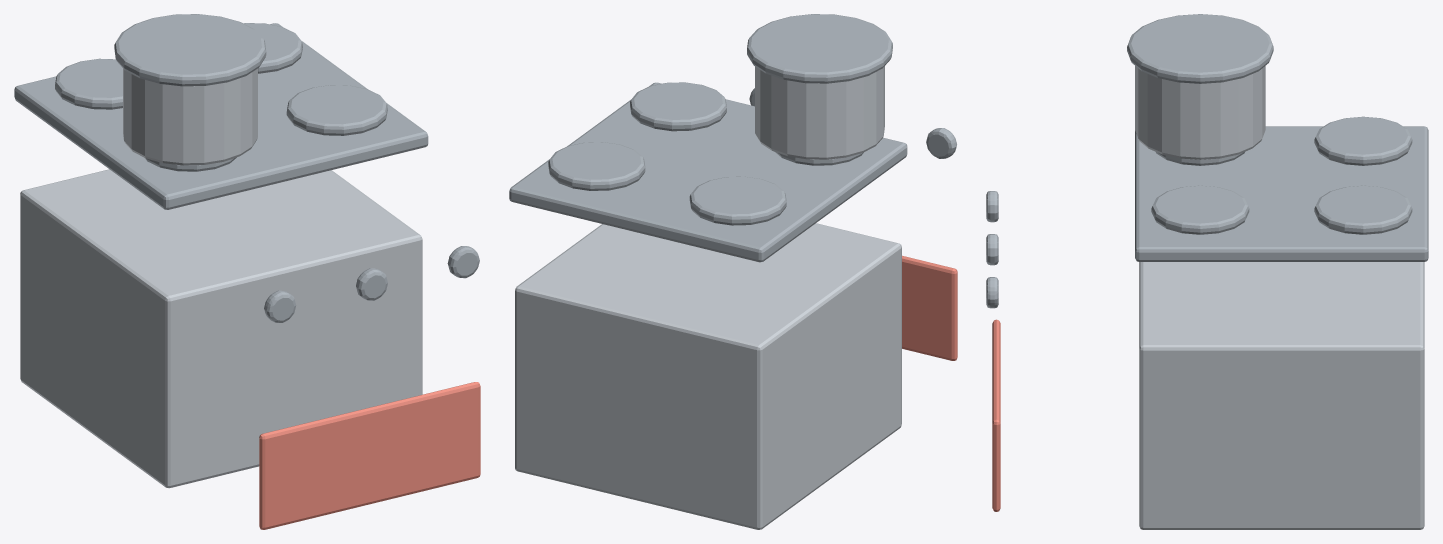
The model's file is SM_Stove.glb.
3 views of the same model, side by side, from view 1: azimuth 30°, elevation 25°; view 2: azimuth 150°, elevation 25°; view 3: azimuth 270°, elevation 25° (orthographic). The views are drawn at different scales.
Visible parts, largest first — view 1: SM_Stove; view 2: SM_Stove; view 3: SM_Stove.
Part boxes in pixels (x1,y1,x2,y2): SM_Stove: (14,14,480,529); SM_Stove: (509,14,957,529); SM_Stove: (986,14,1428,529).
Size of the model in its own units: 0.74 by 1.06 by 1.09.
